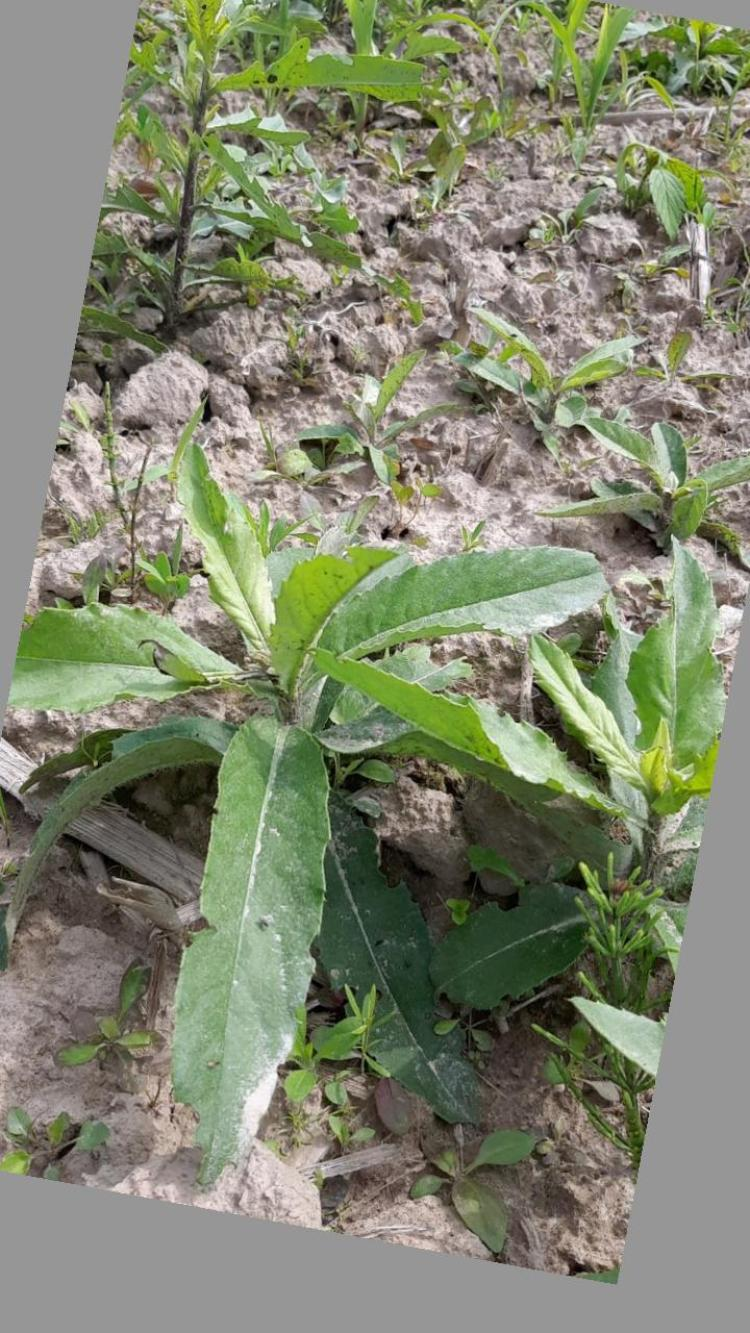osot: (17, 425, 623, 1162)
